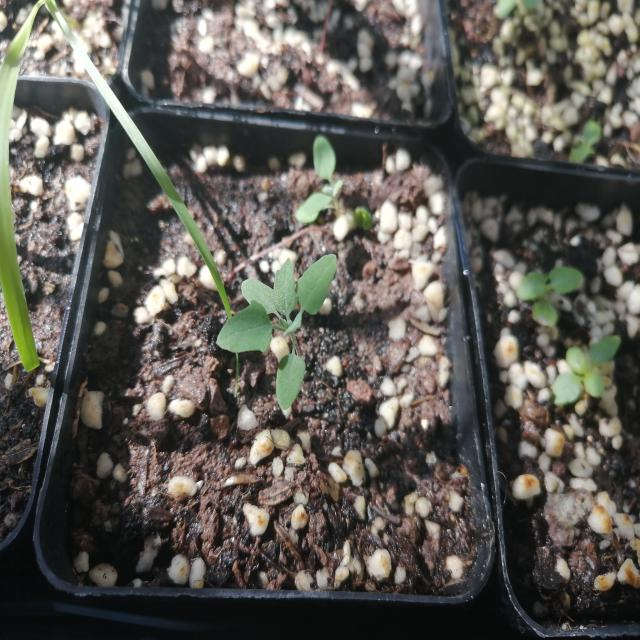goosefoots: (203, 231, 342, 408)
